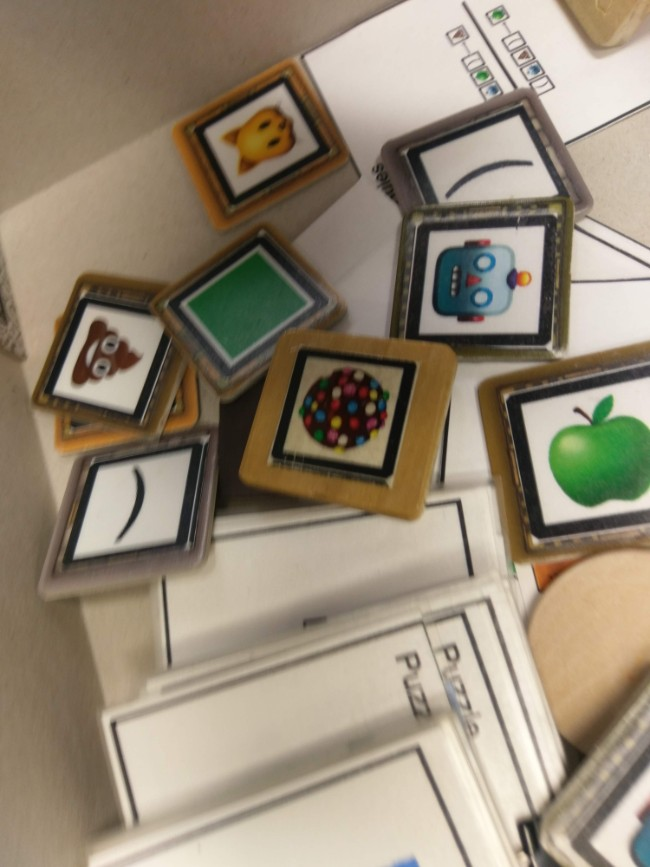cookie: (259, 333, 434, 506)
